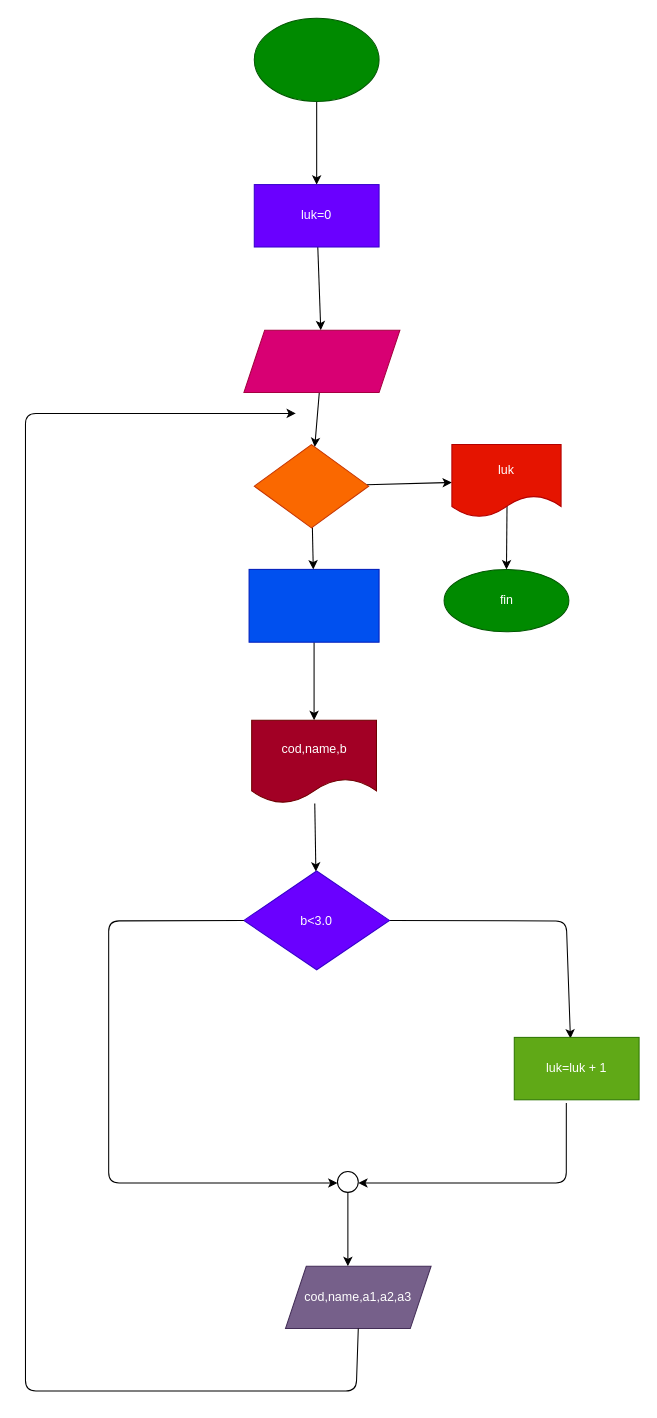
Some shapes in this 657 by 1418 pixel diagram are drawn without their labels. The centre of each missing label's shape, as x and y in pixels:
b=(a1+a2+a3) /3: the point at 313,605
cod=0: the point at 311,486
INCIO: the point at 316,59
name,cod,a1,a2,a3: the point at 321,361
